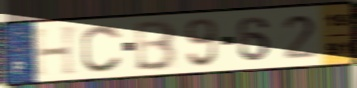2: (281, 14, 318, 61)
6: (236, 15, 272, 63)
9: (184, 17, 219, 69)
B: (134, 18, 180, 72)
C: (79, 23, 124, 74)
H: (31, 23, 81, 78)
